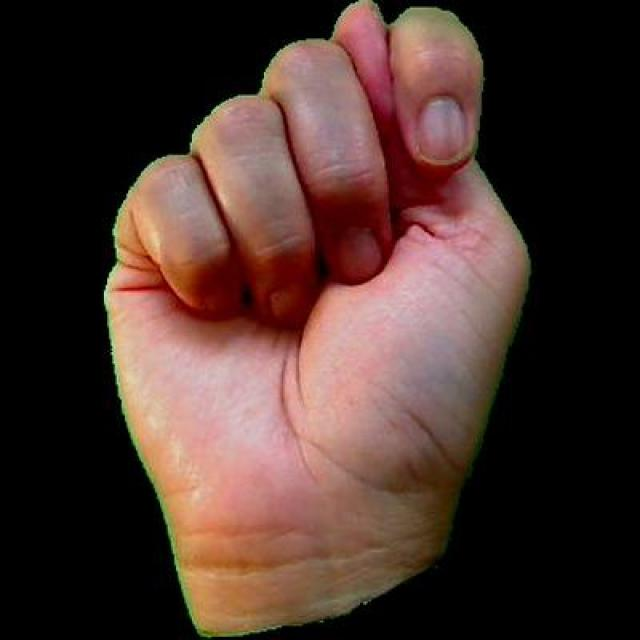t: (96, 0, 536, 637)
